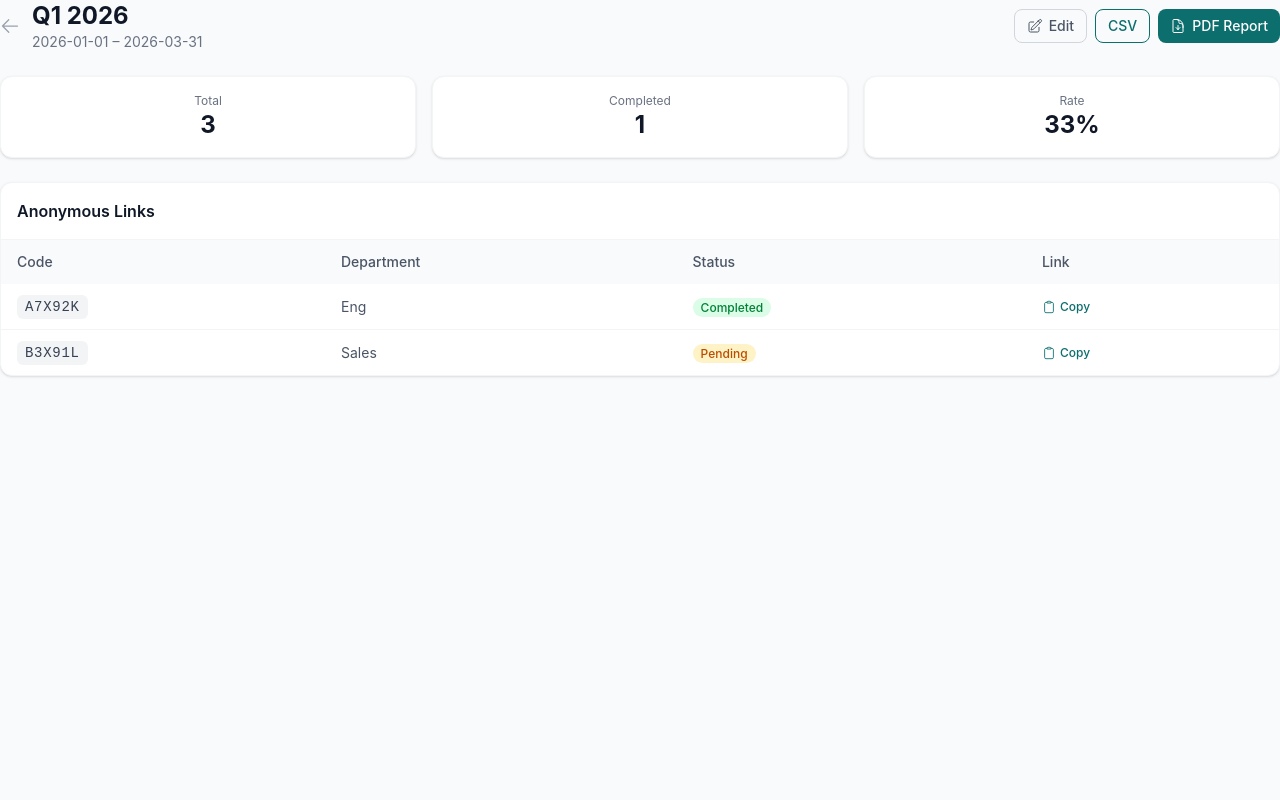
Test case: CampaignDetailPage › shows delete confirmation
Click the button "Edit" at (1050, 26), box [1014,9,1087,43]
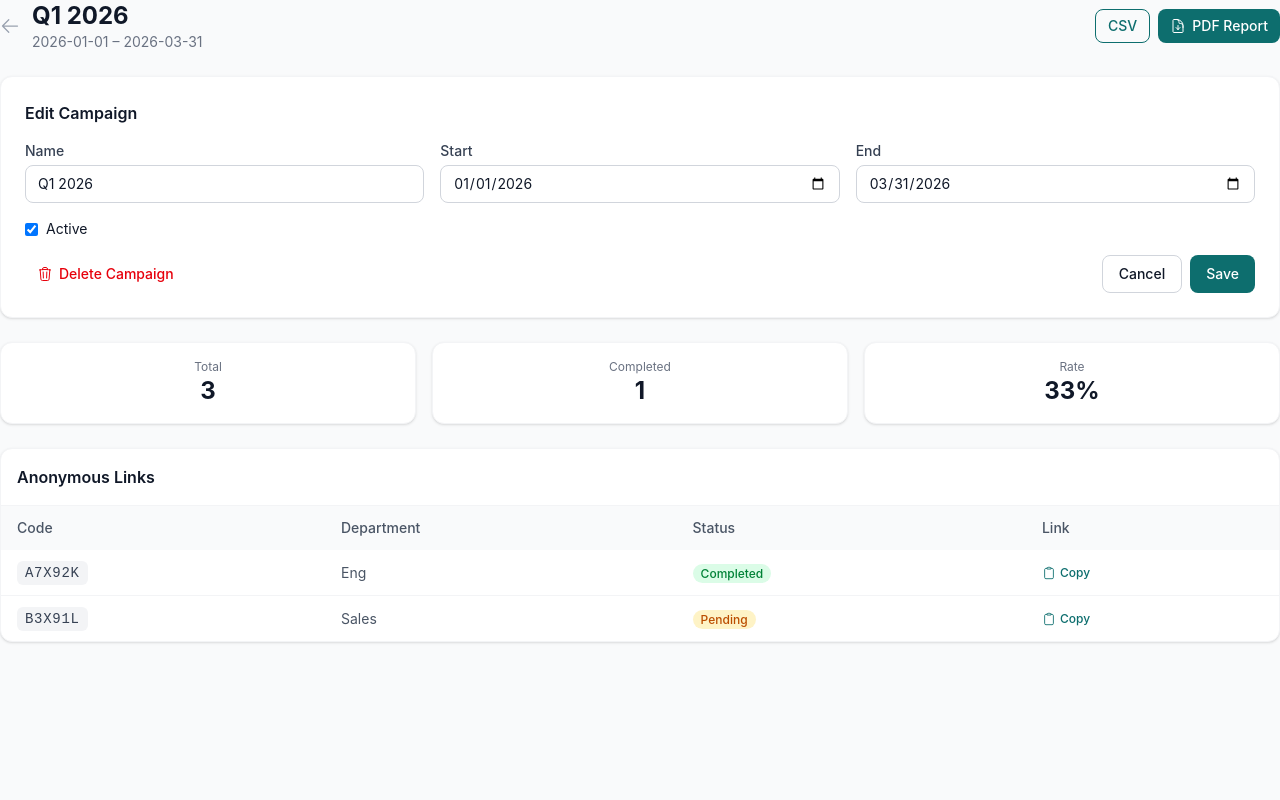
Click the button "Delete Campaign" at (105, 274), box [25,255,186,293]
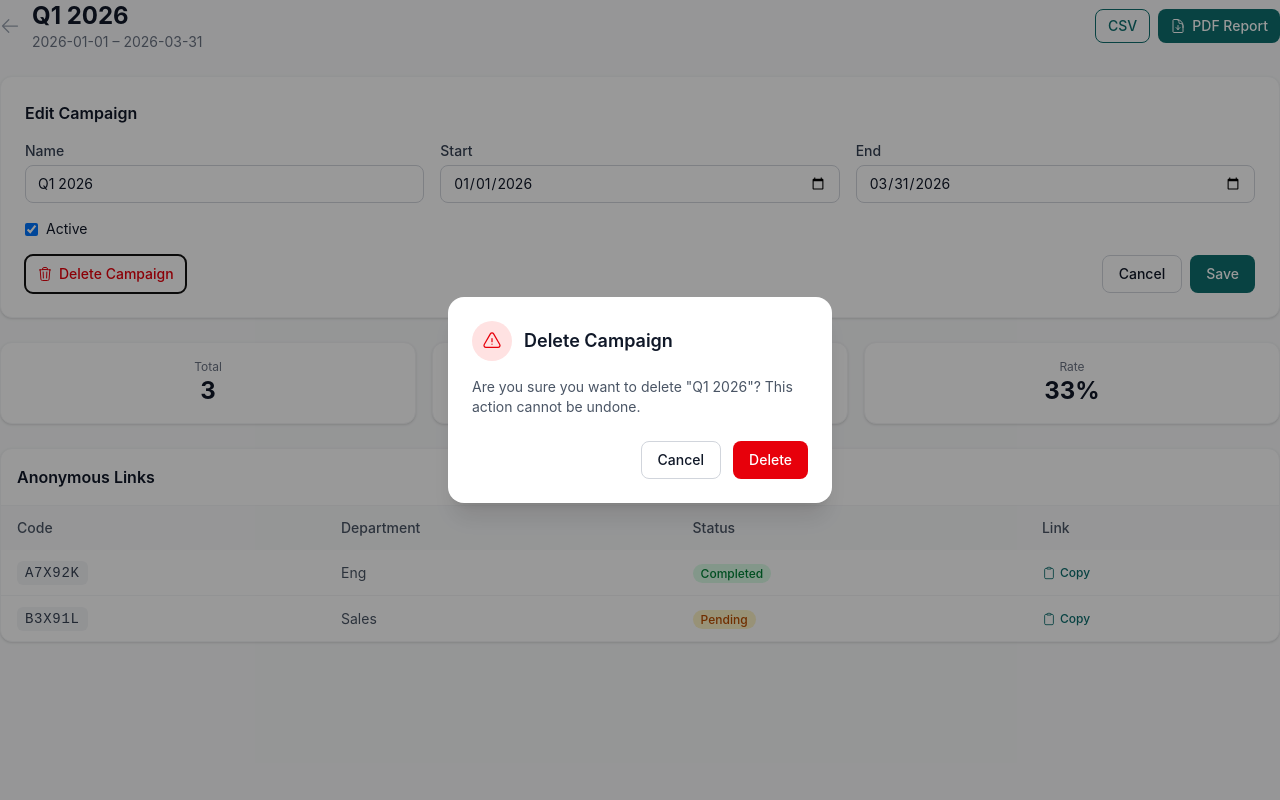
Check: the text "Are you sure" is shown, box [472,378,793,415]
